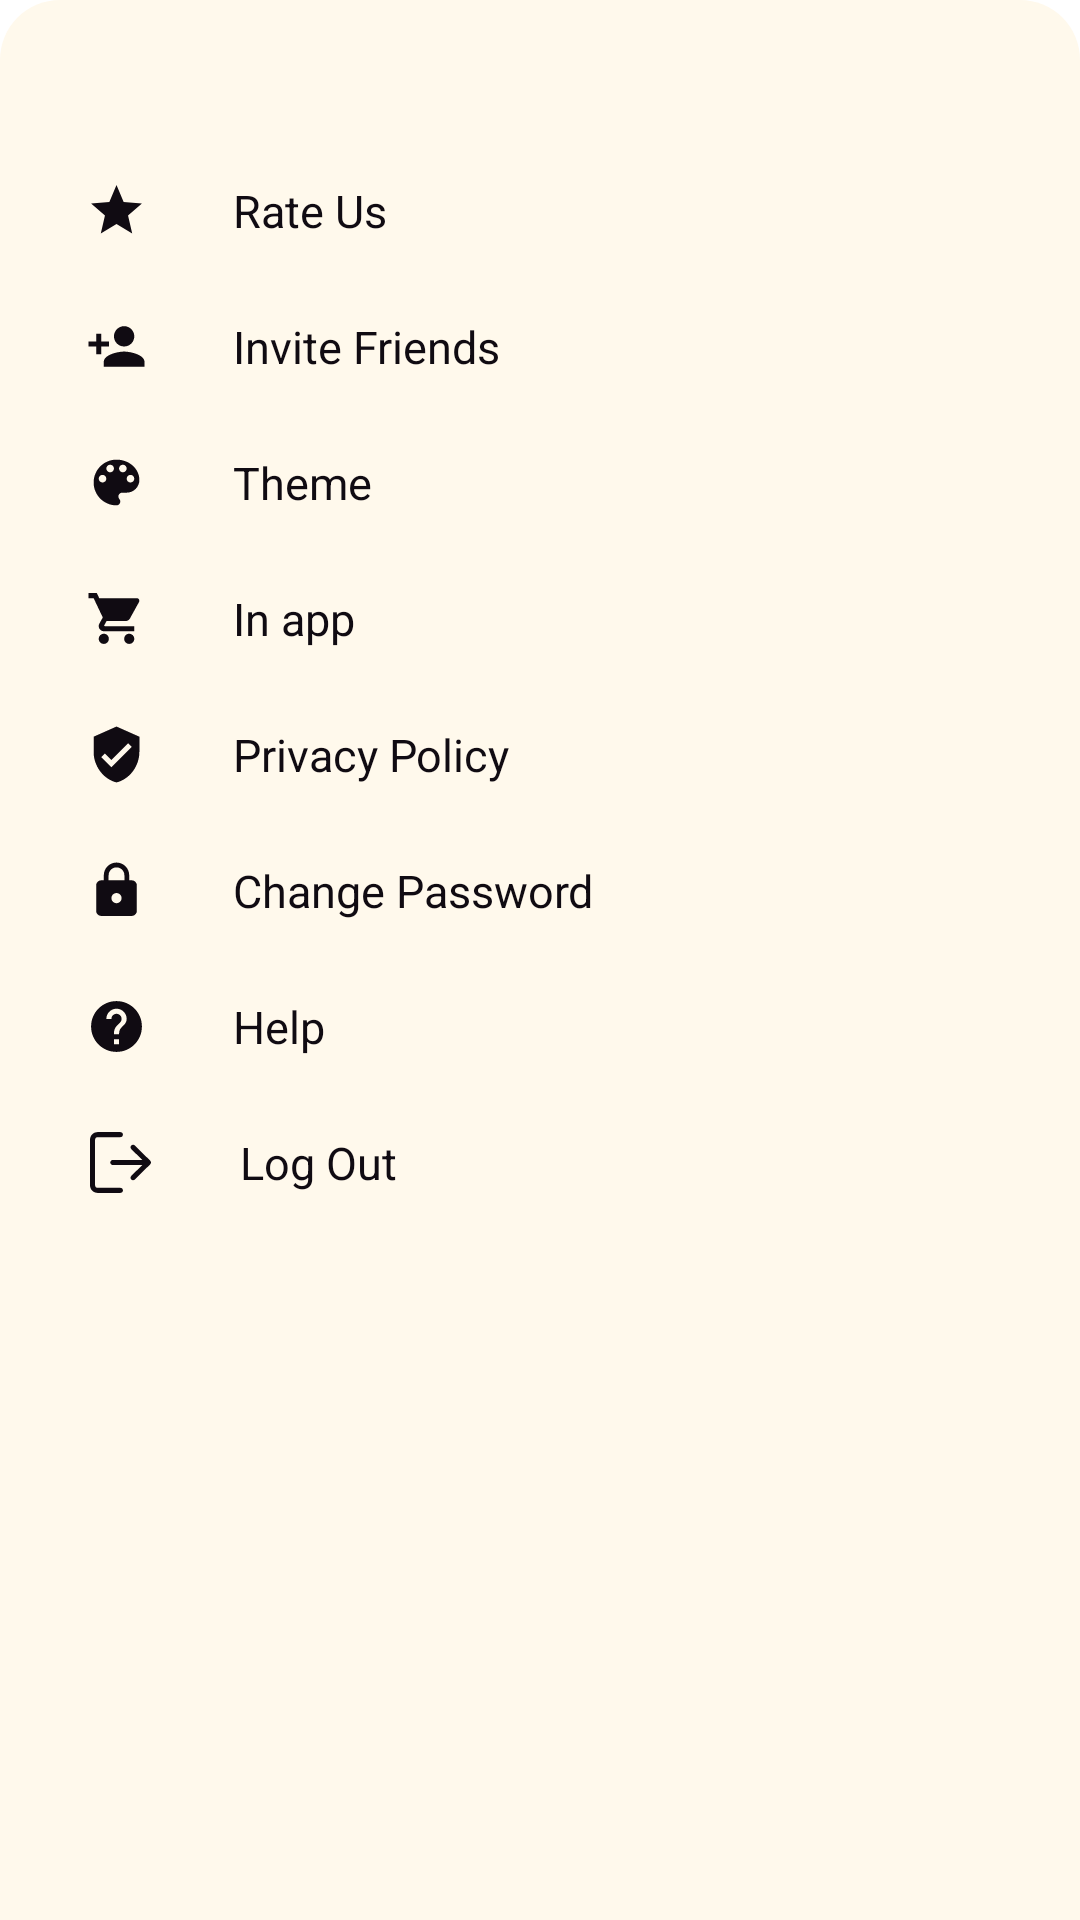

Icons on this 1080px x 1920px Android screen, each with its box as (x1, y1, x2, y2):
lock: (96, 862, 137, 916)
palette: (93, 459, 140, 506)
person add: (88, 326, 145, 367)
shopping cart: (88, 593, 140, 644)
star: (91, 185, 142, 234)
verified user: (93, 726, 140, 783)
